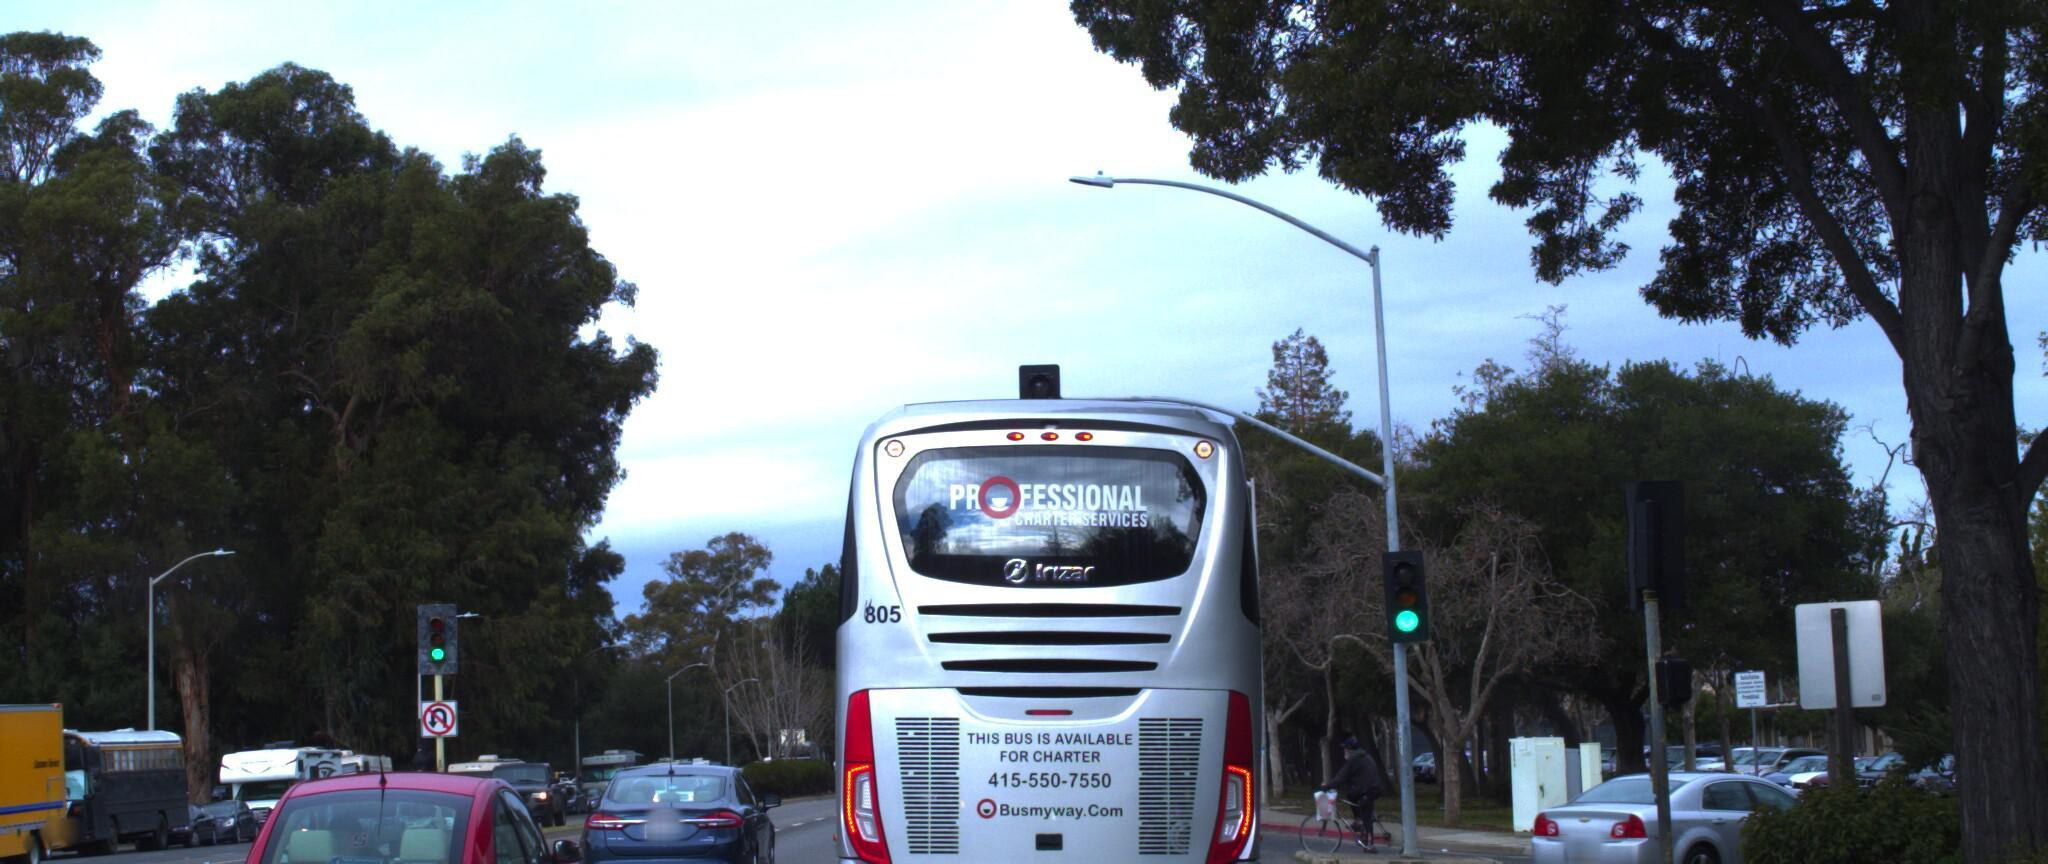bicycle: (1273, 717, 1392, 852)
bus: (786, 360, 1326, 864)
car: (159, 760, 628, 864), (1492, 739, 1860, 864), (563, 749, 776, 864), (465, 741, 576, 817)
truck: (0, 693, 91, 864)
